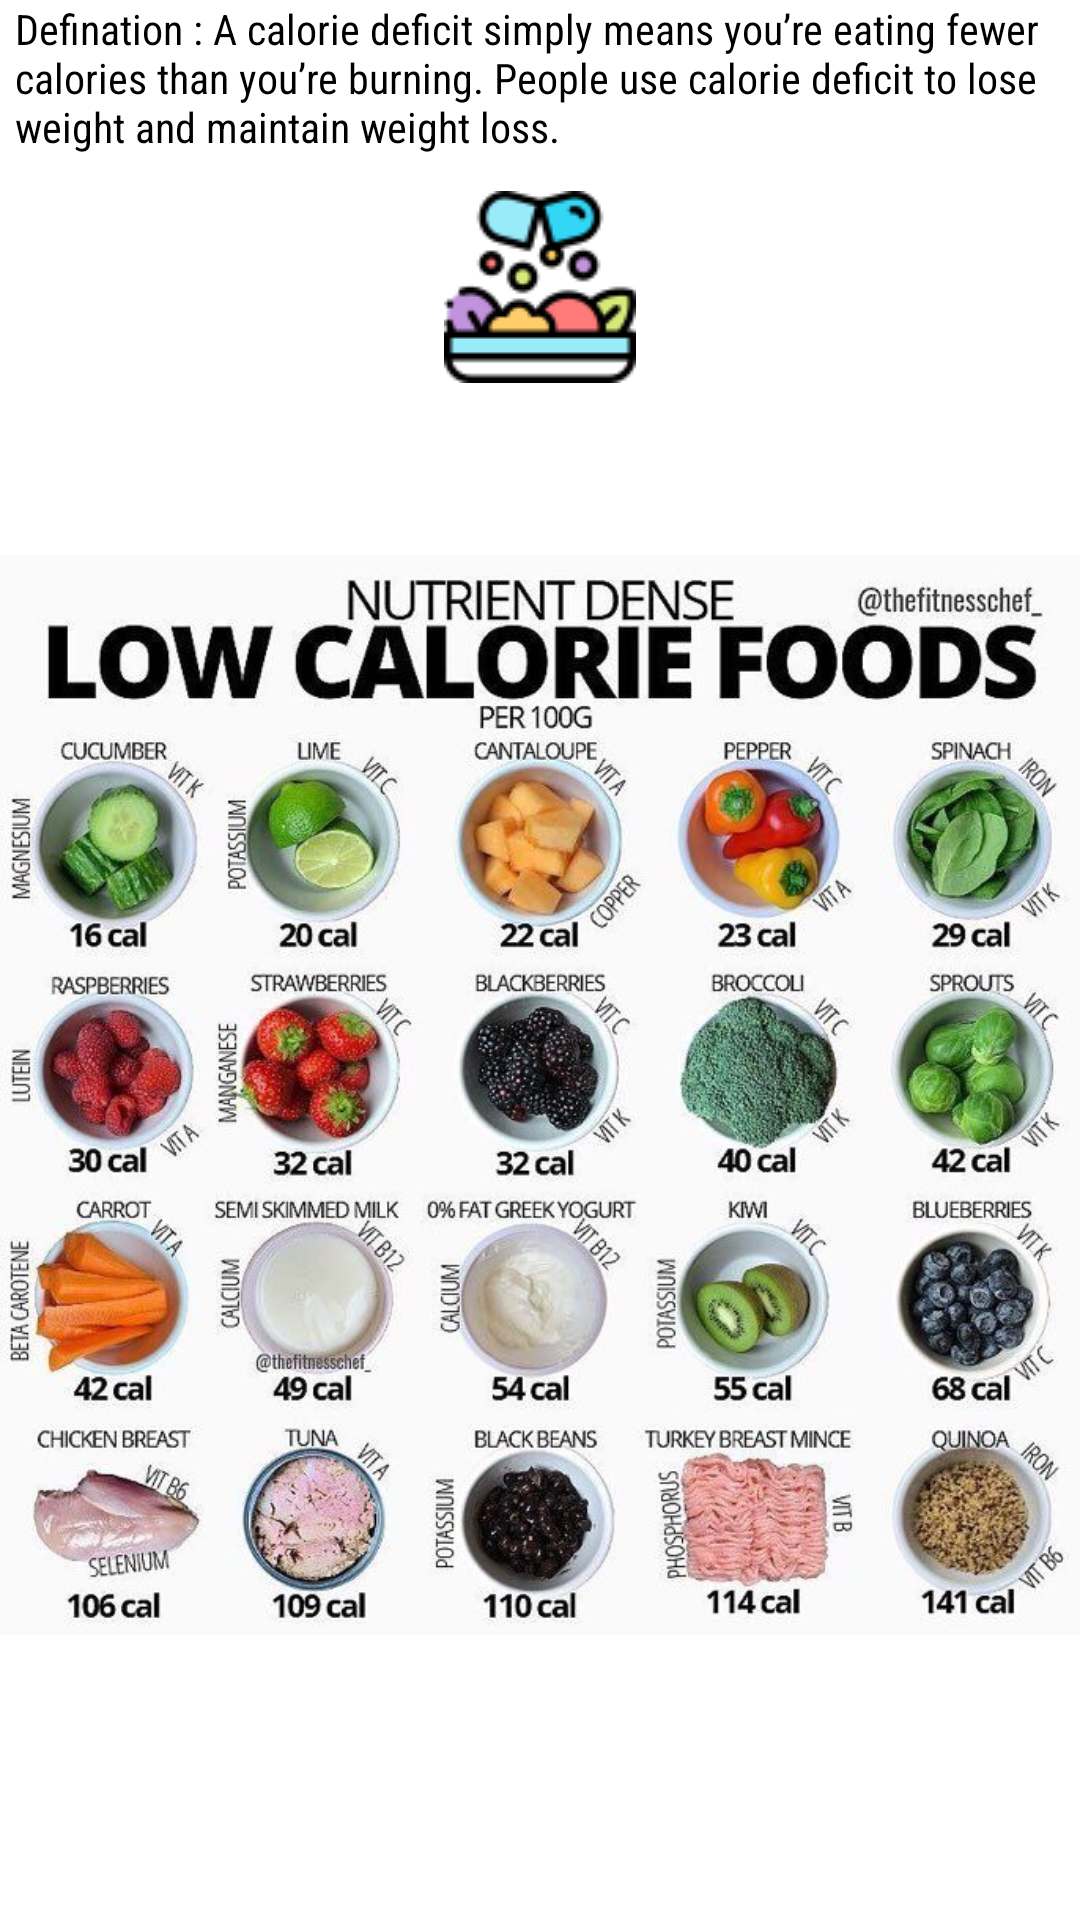

Named icons in this screenshot (1080 x 1920) and their centers, (x,y):
nutrient: (540,287)
